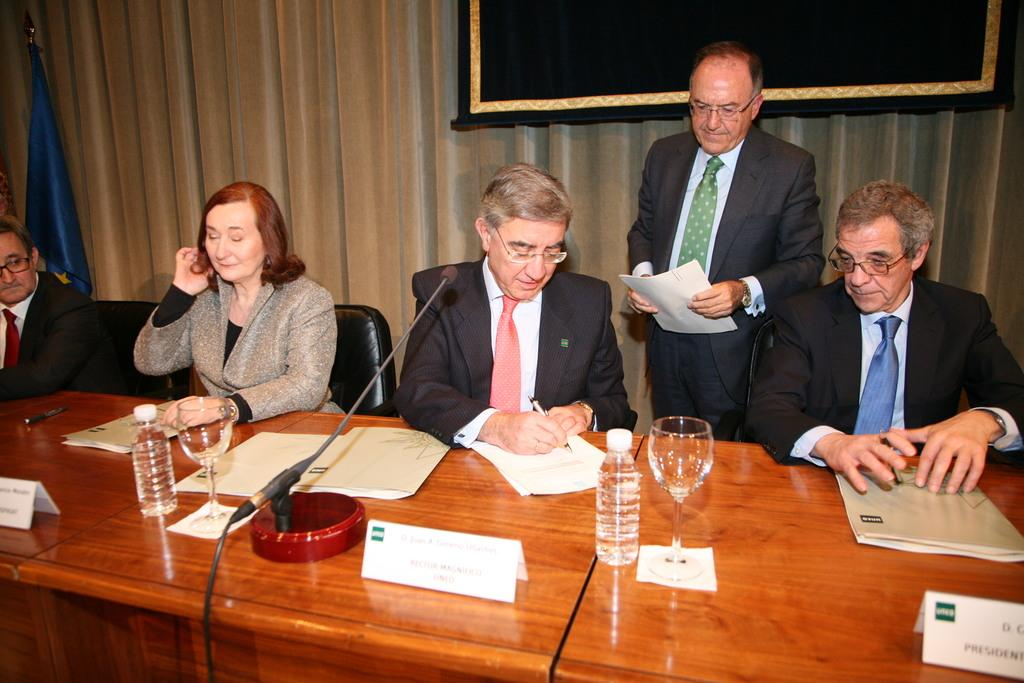Sem Máscara: (832, 214, 910, 311), (487, 214, 565, 295), (202, 199, 264, 279), (688, 70, 747, 153), (0, 228, 33, 302)
